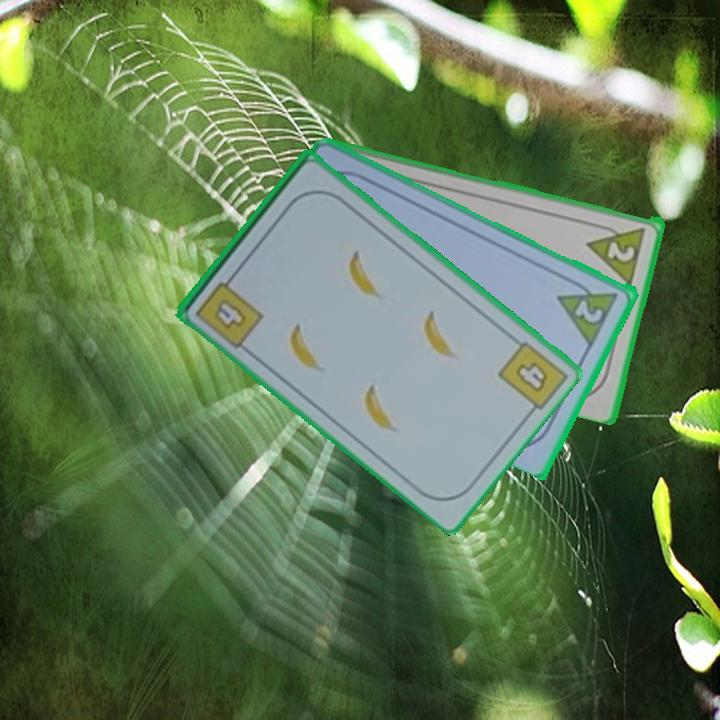2p: (554, 273, 622, 348), (584, 218, 649, 285)
4b: (191, 269, 266, 351), (512, 358, 552, 396)
